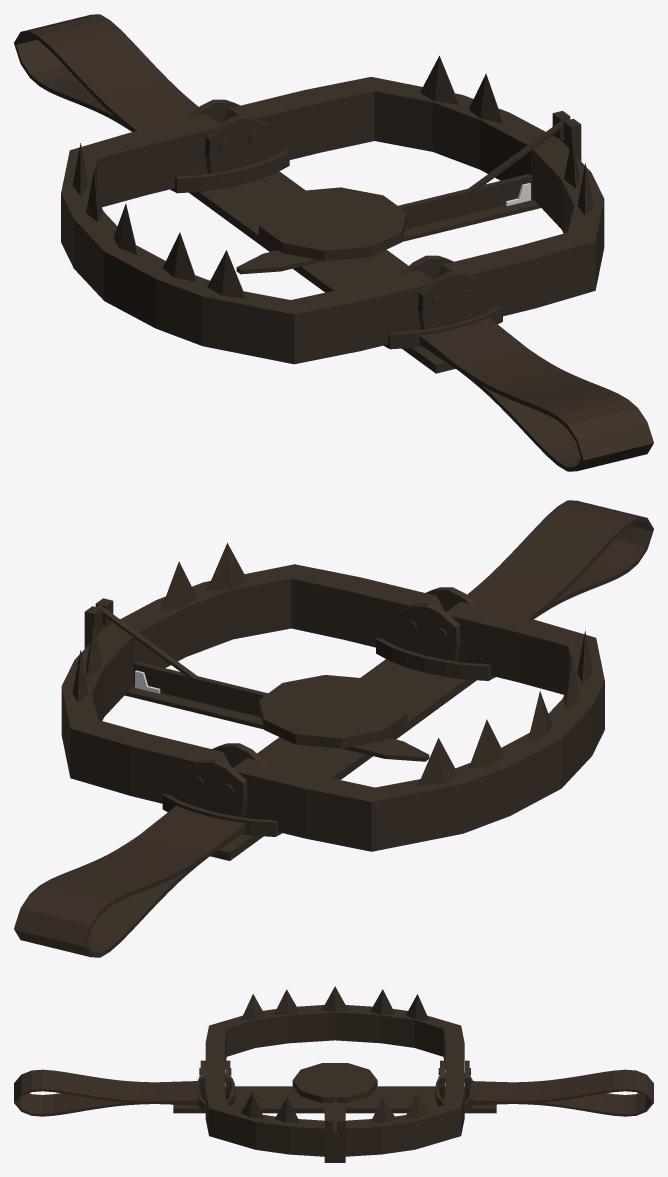
Rendered from bear_trap.fbx.
3 renders of one model, top to bottom at view 1: azimuth 30°, elevation 25°; view 2: azimuth 150°, elevation 25°; view 3: azimuth 270°, elevation 25°, orthographic. The views are drawn at different scales.
Parts seen in each view (by area): view 1: Cube.000, Cube.014, Cube.010, Cylinder, Cube.001, Cube.003, Cube.004, Cube.006, Cube.007, Cube.005, Cube.002, Cube.009; view 2: Cube.000, Cube.014, Cube.010, Cylinder, Cube.001, Cube.004, Cube.003, Cube.006, Cube.007, Cube.002, Cube.005, Cube.009; view 3: Cube.010, Cube.014, Cube.000, Cube.001, Cylinder, Cube.006, Cube.003, Cube.004, Cube.002, Cube.005.
Part boxes in pixels (x1,y1,x2,y2): Cube.000: [61, 114, 432, 364]; Cube.014: [222, 55, 604, 316]; Cube.010: [14, 14, 653, 471]; Cylinder: [259, 187, 406, 260]; Cube.001: [189, 171, 455, 373]; Cube.003: [398, 255, 482, 329]; Cube.004: [186, 99, 269, 173]; Cube.006: [236, 111, 581, 274]; Cube.007: [398, 174, 532, 229]; Cube.005: [170, 150, 289, 193]; Cube.002: [383, 306, 502, 349]; Cube.009: [468, 117, 568, 193]; Cube.000: [233, 601, 604, 851]; Cube.014: [61, 543, 443, 803]; Cube.010: [14, 500, 653, 957]; Cylinder: [259, 675, 406, 748]; Cube.001: [210, 659, 476, 860]; Cube.004: [183, 743, 266, 817]; Cube.003: [396, 587, 479, 661]; Cube.006: [84, 598, 429, 761]; Cube.007: [133, 661, 267, 716]; Cube.002: [376, 637, 495, 680]; Cube.005: [162, 794, 282, 836]; Cube.009: [97, 605, 197, 680]; Cube.010: [14, 1069, 653, 1116]; Cube.014: [205, 1070, 464, 1156]; Cube.000: [205, 986, 464, 1069]; Cube.001: [173, 1086, 496, 1113]; Cylinder: [292, 1063, 377, 1102]; Cube.006: [324, 1103, 345, 1162]; Cube.003: [199, 1060, 231, 1101]; Cube.004: [438, 1060, 470, 1101]; Cube.002: [195, 1073, 235, 1111]; Cube.005: [435, 1073, 474, 1111].
Size of the model in its own units: 227 by 52.92 by 478.
